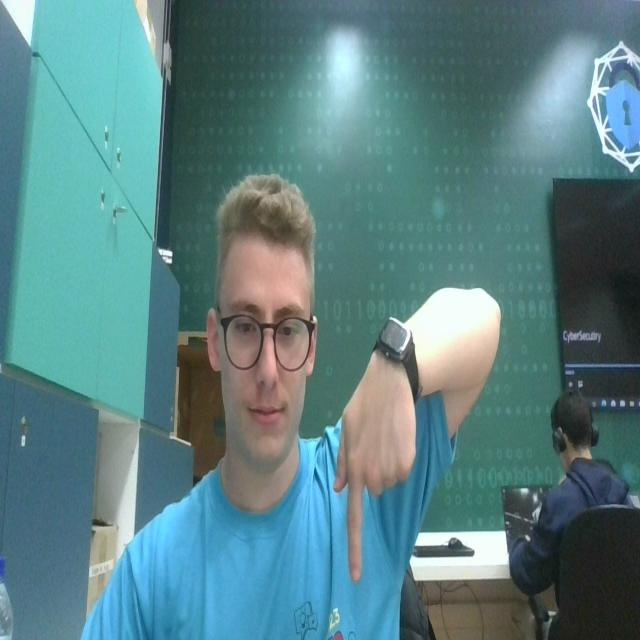Q: (329, 359, 421, 580)
